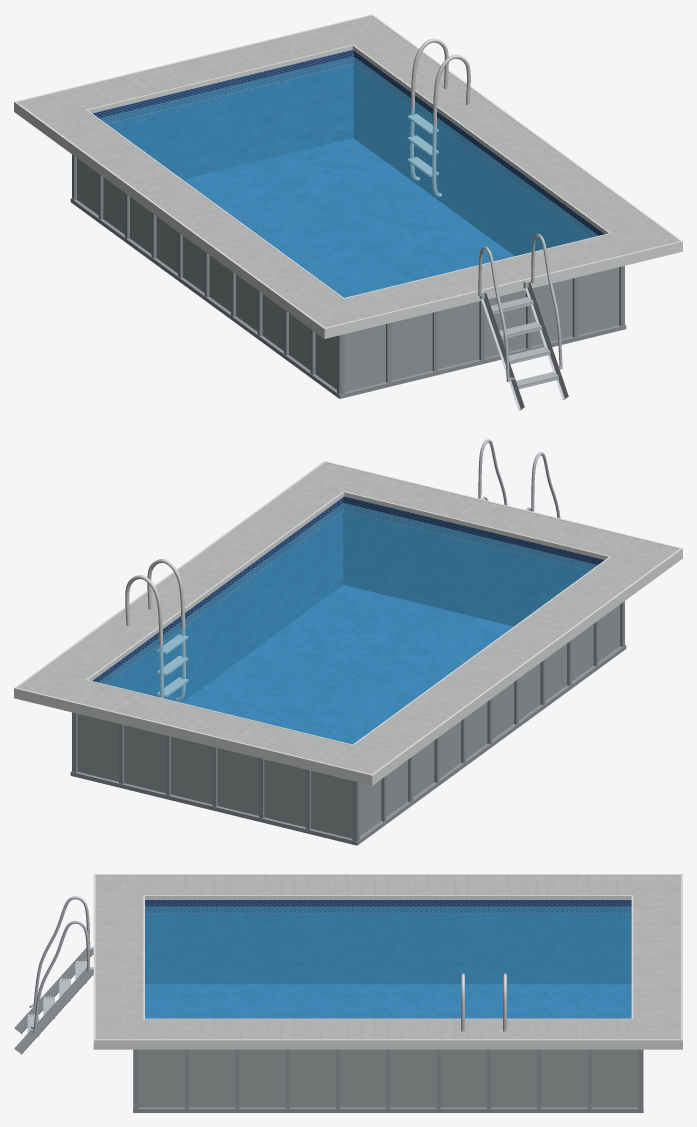
File: kayak-pool-12x20-gray-walk-ag-nofence.3c463d4775.glb
3 renders of one model, top to bottom at view 1: azimuth 30°, elevation 25°; view 2: azimuth 150°, elevation 25°; view 3: azimuth 270°, elevation 25°, orthographic. The views are drawn at different scales.
Parts seen in each view (by area): view 1: water, deck, liner_wall, liner_floor, wall, fascia, upright, ladder, steel; view 2: water, deck, liner_wall, liner_floor, wall, fascia, upright, steel, ladder; view 3: water, liner_wall, deck, wall, liner_floor, fascia, upright, ladder, steel.
Part boxes in pixels (box(x1,y1,x2,y2)): water: box(99, 56, 598, 297); deck: box(18, 16, 679, 327); liner_wall: box(92, 50, 604, 255); liner_floor: box(183, 138, 513, 297); wall: box(77, 158, 619, 391); fascia: box(14, 14, 682, 338); upright: box(70, 154, 626, 398); ladder: box(478, 233, 568, 410); steel: box(407, 38, 470, 196); water: box(98, 503, 597, 744); deck: box(17, 462, 678, 774); liner_wall: box(92, 496, 604, 702); liner_floor: box(182, 585, 513, 744); wall: box(77, 605, 619, 838); fascia: box(14, 461, 682, 785); upright: box(70, 601, 626, 845); steel: box(125, 559, 188, 701); ladder: box(478, 439, 560, 518); water: box(145, 906, 631, 1018); liner_wall: box(145, 900, 631, 984); deck: box(95, 875, 680, 1039); wall: box(138, 1049, 637, 1107); liner_floor: box(145, 984, 631, 1018); fascia: box(93, 874, 682, 1049); upright: box(133, 1049, 643, 1112); ladder: box(14, 896, 93, 1054); steel: box(461, 973, 506, 1031).
Size of the model in its own units: 4.88 by 1.9 by 8.3.
Materials: 10 (3 with a texture image).
